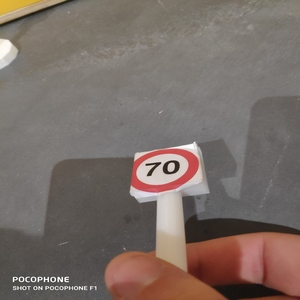70-bord: (132, 148, 200, 194)
